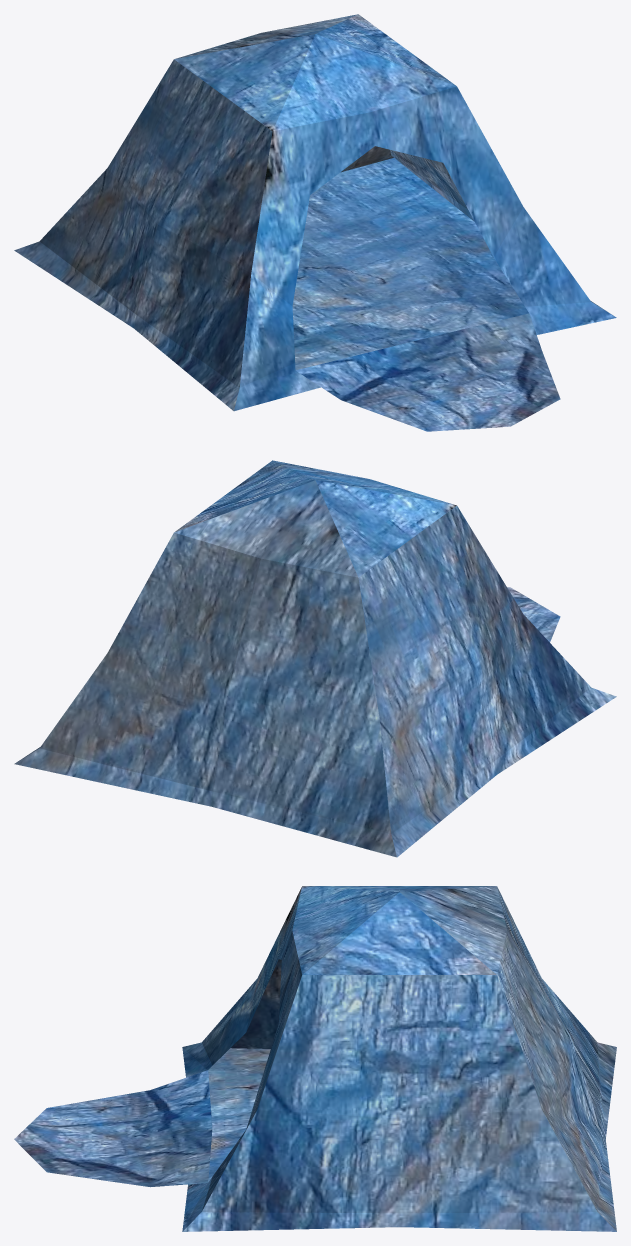
The model's file is Tent.fbx.
The picture shows the model from 3 angles, top to bottom: view 1: azimuth 30°, elevation 25°; view 2: azimuth 150°, elevation 25°; view 3: azimuth 270°, elevation 25°; orthographic projection.
Visible parts, largest first — view 1: TENT; view 2: TENT; view 3: TENT.
Part boxes in pixels (x1,y1,x2,y2): TENT: [14, 14, 616, 431]; TENT: [14, 460, 616, 857]; TENT: [14, 886, 616, 1231].
Bounding box in the file's own units: 278 × 174 × 383.
